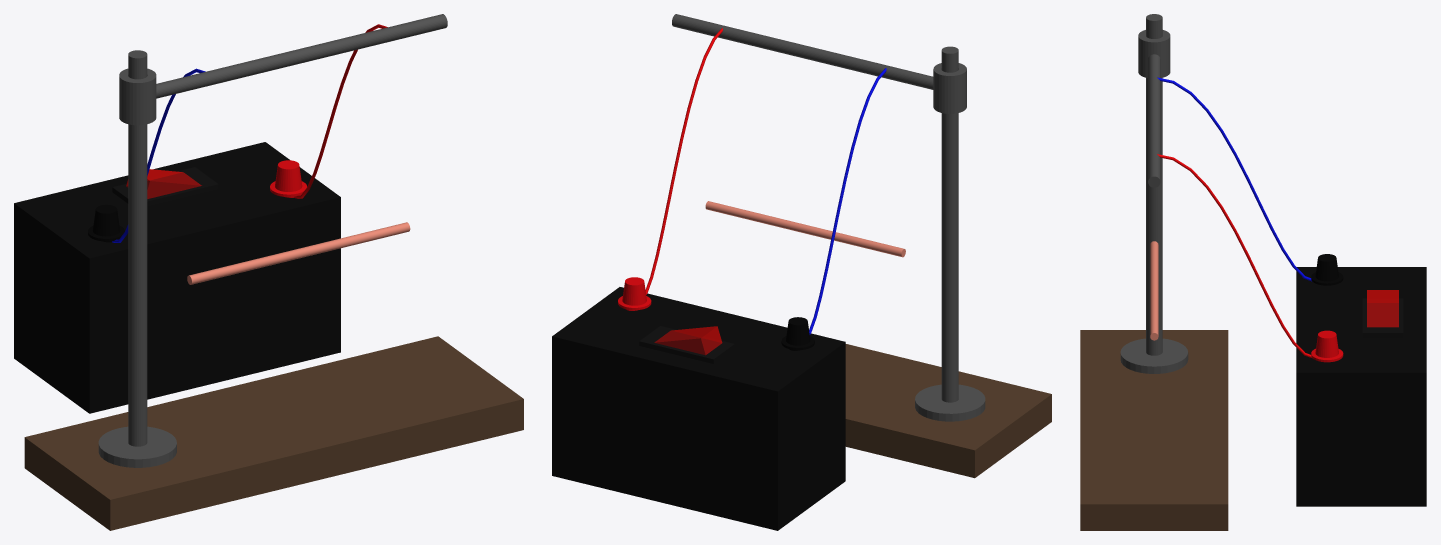
Rendered from wireSet.glb.
3 renders of one model, left to right at view 1: azimuth 30°, elevation 25°; view 2: azimuth 150°, elevation 25°; view 3: azimuth 270°, elevation 25°, orthographic. The views are drawn at different scales.
Visible parts, largest first — view 1: Batt, Base, Pole, Bar, Conductor, Switch, redWire; view 2: Batt, Base, Pole, Bar, Conductor, Switch, redWire, blueWire; view 3: Batt, Base, Pole, Bar, Switch, redWire, blueWire, Conductor.
Boxes of the visible parts, left/top/right/bottom form: Batt: left=14, top=142, right=340, bottom=413; Base: left=24, top=336, right=523, bottom=530; Pole: left=98, top=50, right=176, bottom=467; Bar: left=119, top=14, right=447, bottom=125; Conductor: left=187, top=222, right=410, bottom=284; Switch: left=126, top=169, right=201, bottom=198; redWire: left=294, top=24, right=387, bottom=198; Batt: left=552, top=277, right=845, bottom=530; Base: left=845, top=344, right=1051, bottom=478; Pole: left=915, top=46, right=985, bottom=421; Bar: left=672, top=14, right=966, bottom=113; Conductor: left=705, top=201, right=905, bottom=257; Switch: left=654, top=326, right=722, bottom=355; redWire: left=645, top=28, right=722, bottom=294; blueWire: left=809, top=68, right=886, bottom=334; Batt: left=1296, top=254, right=1426, bottom=506; Base: left=1080, top=330, right=1228, bottom=530; Pole: left=1120, top=14, right=1188, bottom=373; Bar: left=1138, top=30, right=1170, bottom=187; Switch: left=1367, top=290, right=1398, bottom=327; redWire: left=1157, top=154, right=1311, bottom=357; blueWire: left=1157, top=77, right=1311, bottom=281; Conductor: left=1150, top=241, right=1158, bottom=340.
Bounding box in the file's own units: 0.5574 × 0.5512 × 0.4684.
